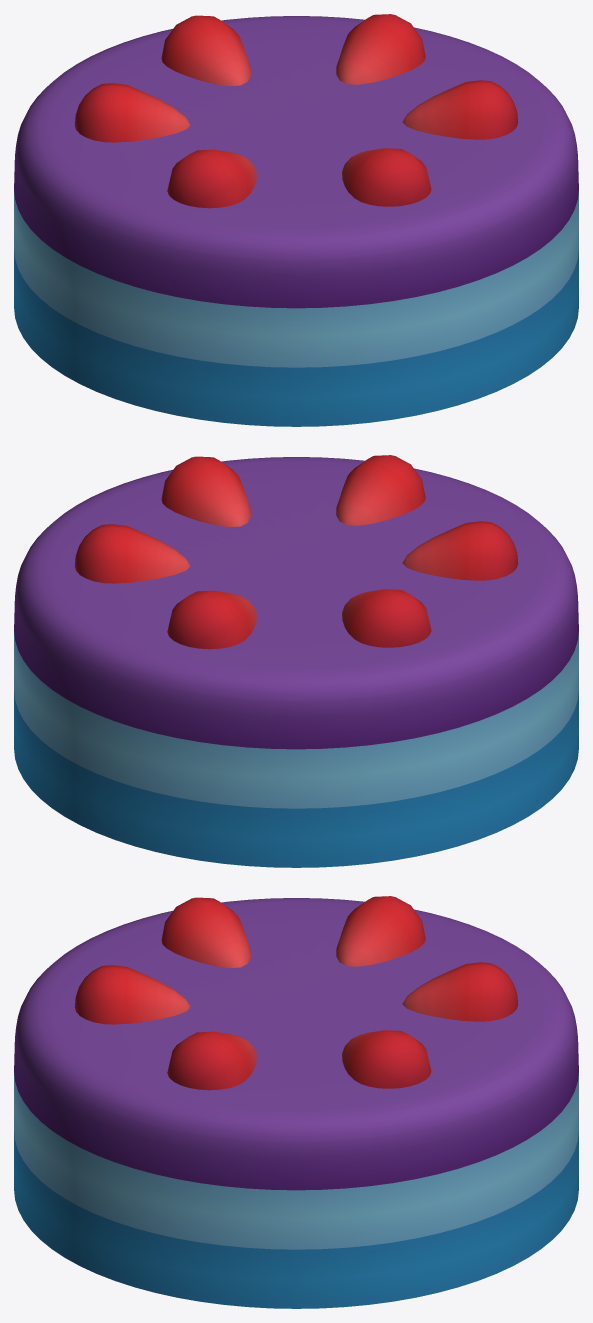
Rendered from cake03.FBX.
3 renders of one model, top to bottom at view 1: azimuth 30°, elevation 25°; view 2: azimuth 150°, elevation 25°; view 3: azimuth 270°, elevation 25°, orthographic.
Visible parts, largest first — view 1: cake03; view 2: cake03; view 3: cake03.
Part boxes in pixels (x1,y1,x2,y2): cake03: (14, 14, 578, 426); cake03: (14, 455, 578, 867); cake03: (14, 896, 578, 1308).
Bounding box in the file's own units: 0.0193 × 0.00837 × 0.0193.
